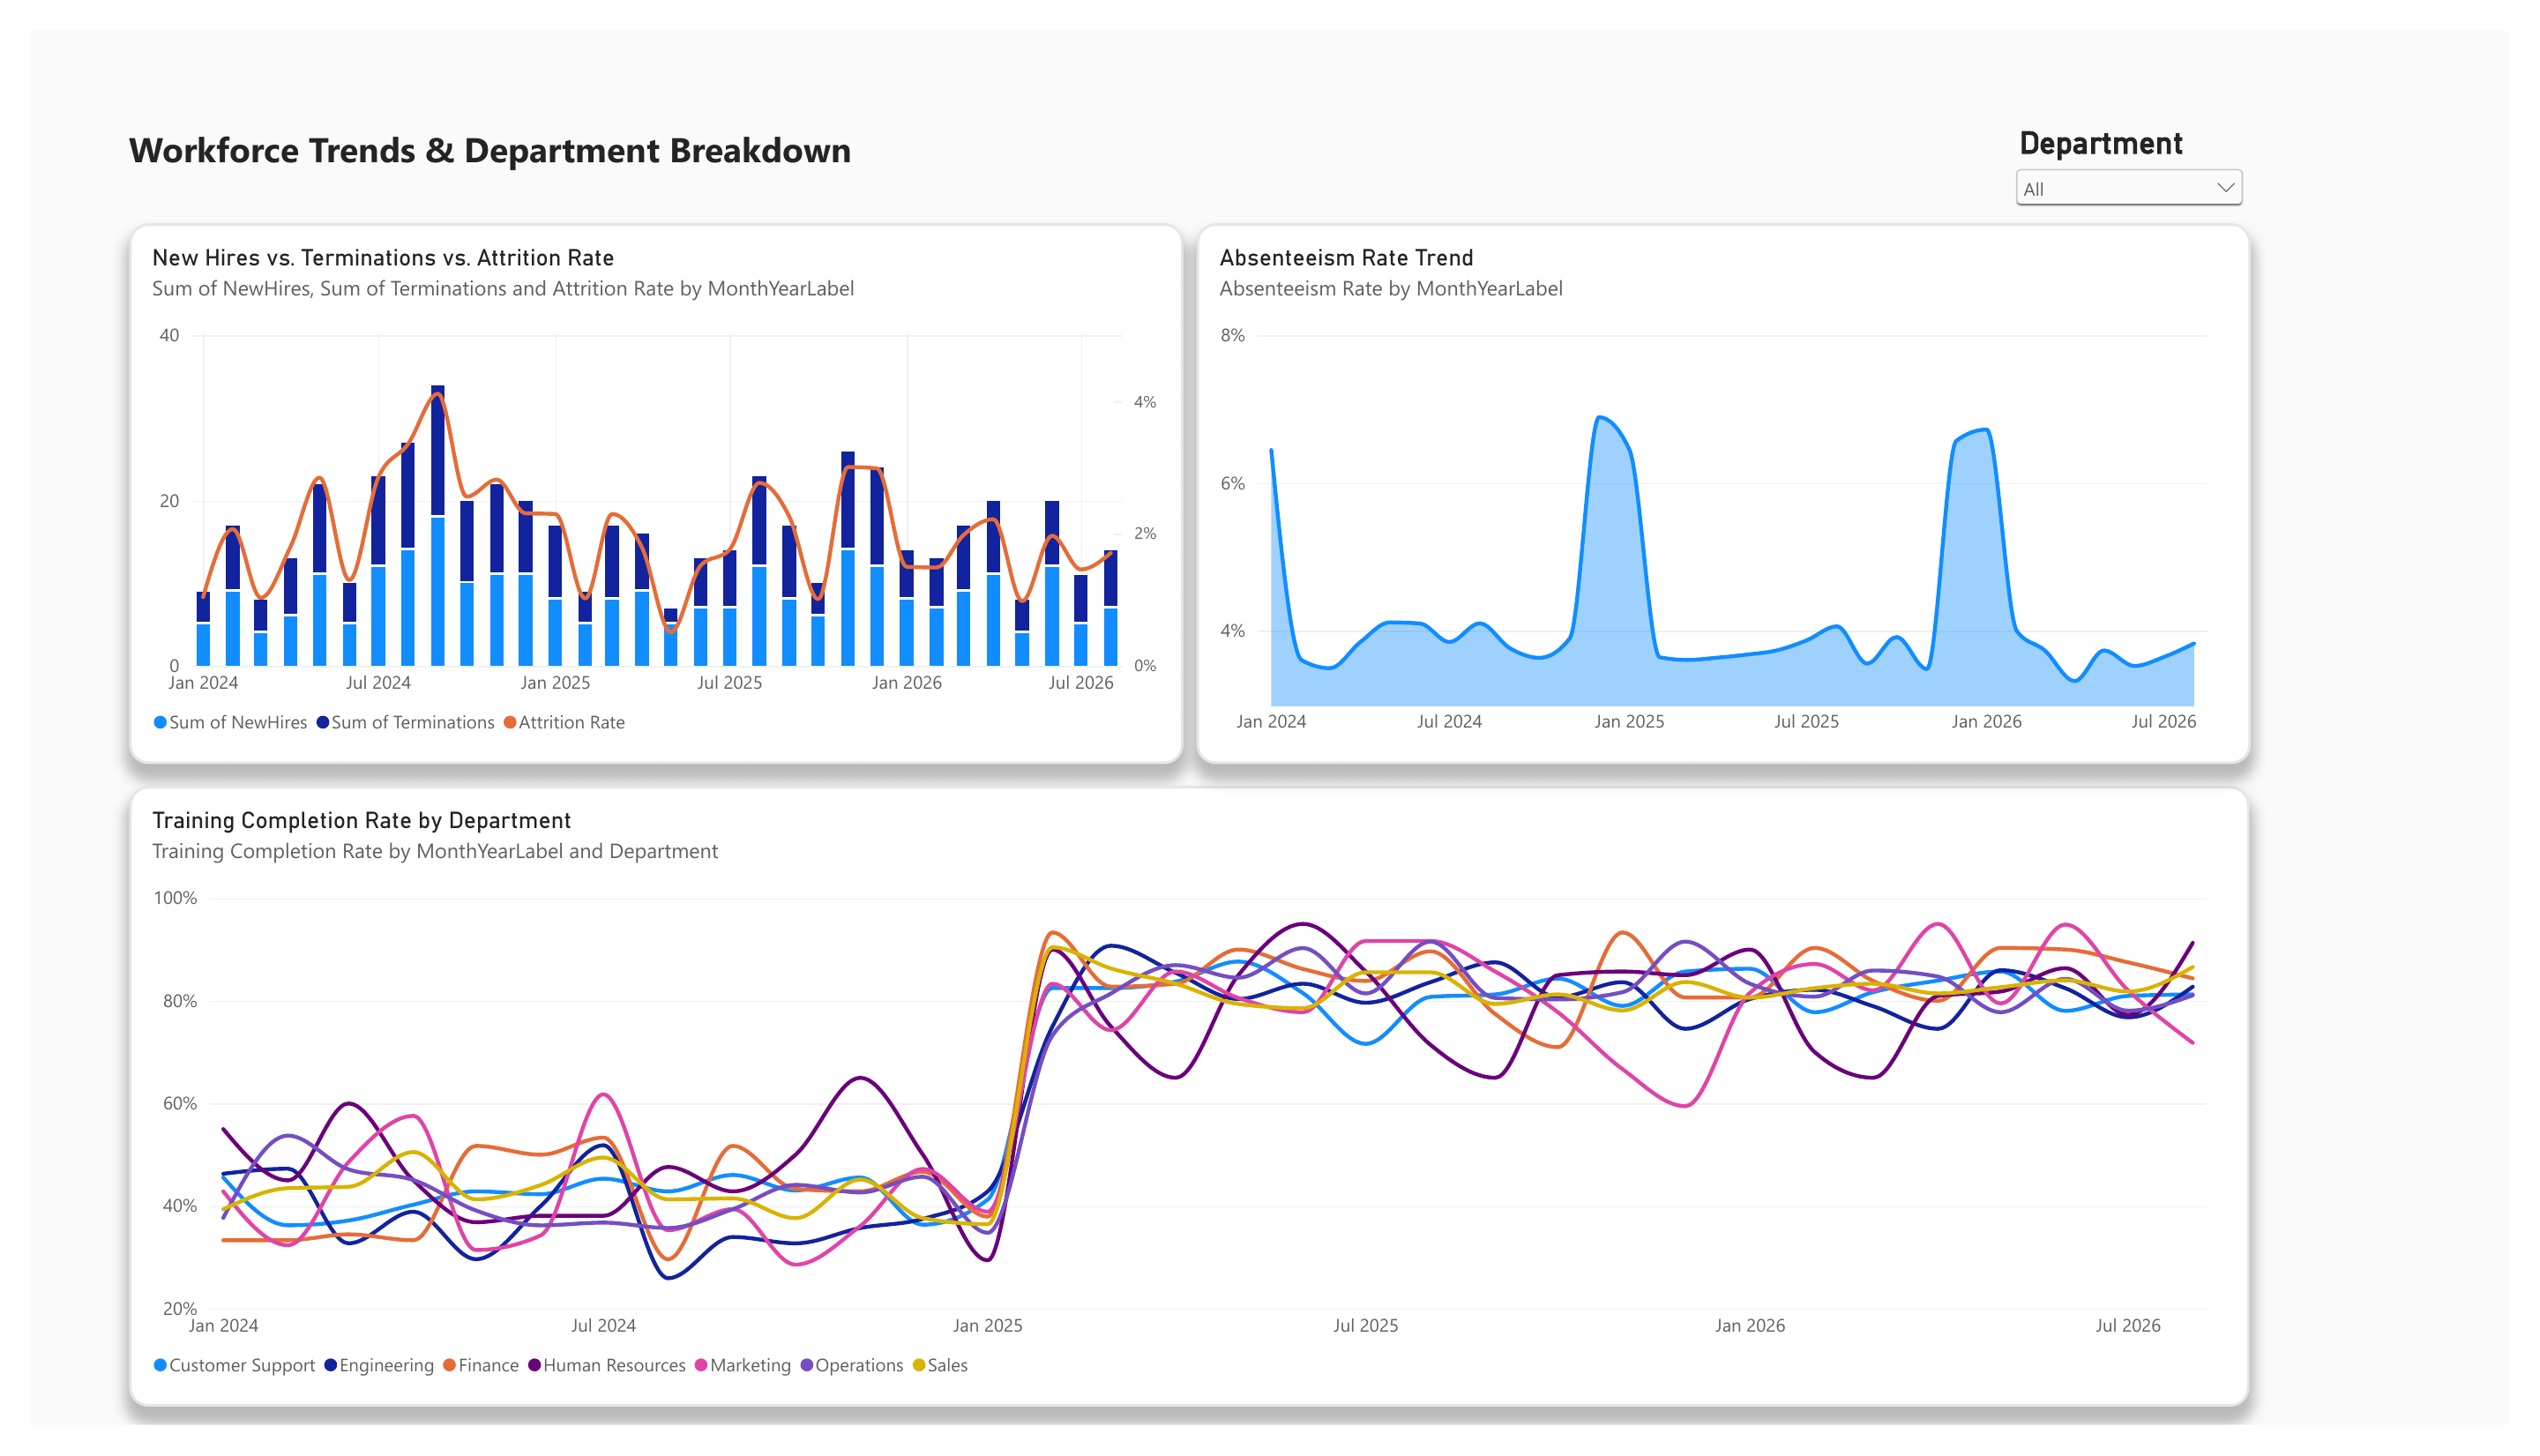

The dashboard page shown, as its layout file describes it:
{"tool":"powerbi","page":{"name":"Workforce Trends","canvas":[1920,1080],"ordinal":1},"visuals":[{"type":"textbox","box":[76.2,73.1,817,39.4],"z":0},{"type":"slicer","fields":{"Values":["dim_department.Department"]},"box":[1532.6,73.1,186.7,75.9],"z":1},{"type":"lineStackedColumnComboChart","title":"New Hires vs. Terminations vs. Attrition Rate","fields":{"Category":["dim_date.MonthYearLabel"],"Y":["Sum(company_monthly_kpi.NewHires)","Sum(company_monthly_kpi.Terminations)"],"Y2":["_Measures.Attrition Rate"]},"box":[76.2,149.4,816.9,418.5],"z":2},{"type":"lineChart","title":"Training Completion Rate by Department","fields":{"Category":["dim_date.MonthYearLabel"],"Y":["_Measures.Training Completion Rate"],"Series":["dim_department.Department"]},"box":[76.2,585,1643,480.8],"z":3},{"type":"areaChart","title":"Absenteeism Rate Trend","fields":{"Category":["dim_date.MonthYearLabel"],"Y":["_Measures.Absenteeism Rate"]},"box":[903,149,817,419],"z":4}]}

Visuals, with their boxes in screenshot pixels (x1, y1, x2, y2), scaled from the page's 1920x1080 canvas onto the 2540x1456 screenshot:
textbox: crop(101, 99, 1182, 152)
slicer - dim_department.Department: crop(2028, 99, 2275, 201)
"New Hires vs. Terminations vs. Attrition Rate" lineStackedColumnComboChart: crop(101, 201, 1182, 765)
"Training Completion Rate by Department" lineChart: crop(101, 788, 2275, 1437)
"Absenteeism Rate Trend" areaChart: crop(1194, 201, 2275, 765)
